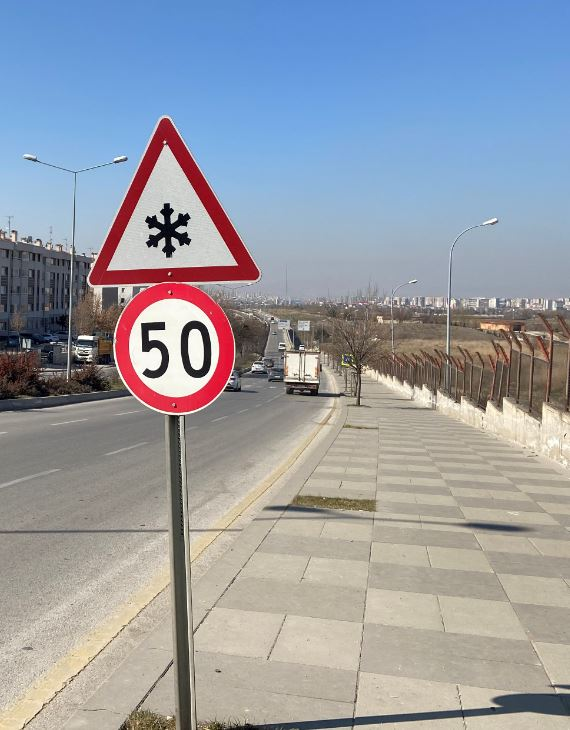50 Km Hiz Siniri: (96, 286, 240, 425)
